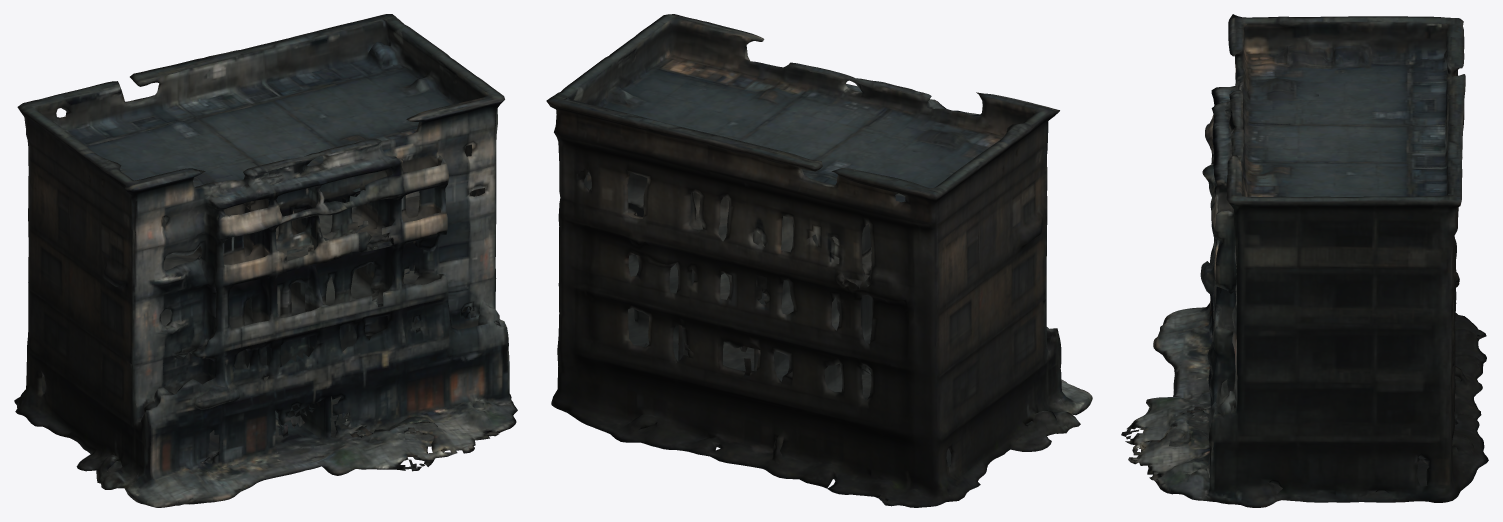
The model's file is Create_a_a_big_multip_0422095016_refine.fbx.
3 views of the same model, side by side, from view 1: azimuth 30°, elevation 25°; view 2: azimuth 150°, elevation 25°; view 3: azimuth 270°, elevation 25° (orthographic). The views are drawn at different scales.
Parts seen in each view (by area): view 1: Mesh1; view 2: Mesh1; view 3: Mesh1.
Boxes of the visible parts, x1=… form: Mesh1: x1=14, y1=14, x2=517, y2=507; Mesh1: x1=546, y1=14, x2=1092, y2=507; Mesh1: x1=1121, y1=14, x2=1488, y2=507.
Bounding box in the file's own units: 198 × 140 × 153.
Materials: 1 (1 with a texture image).
